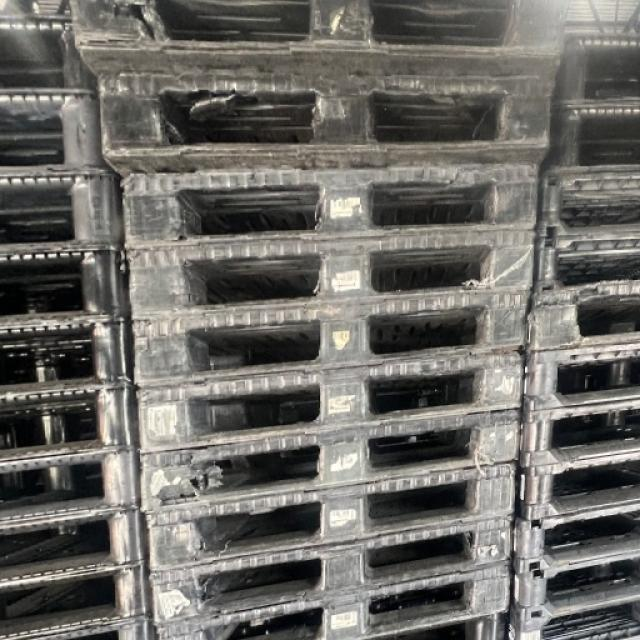igps: (86, 62, 557, 180), (128, 339, 533, 463), (144, 510, 516, 640), (141, 458, 524, 578), (127, 282, 536, 394), (135, 404, 528, 520), (120, 225, 542, 328), (112, 157, 546, 257), (62, 0, 572, 81), (154, 555, 515, 640), (0, 552, 162, 640), (0, 501, 152, 590), (0, 376, 145, 469), (0, 441, 147, 532), (0, 307, 144, 398), (0, 84, 130, 180), (0, 242, 136, 332), (504, 492, 639, 579), (0, 168, 130, 258), (506, 545, 640, 625), (510, 393, 639, 473), (508, 447, 639, 524), (520, 226, 638, 307), (518, 338, 639, 416), (0, 10, 103, 99), (519, 290, 639, 362), (527, 166, 639, 243), (546, 25, 640, 115), (534, 97, 638, 176), (501, 587, 640, 640), (0, 607, 164, 640), (360, 605, 510, 640)
